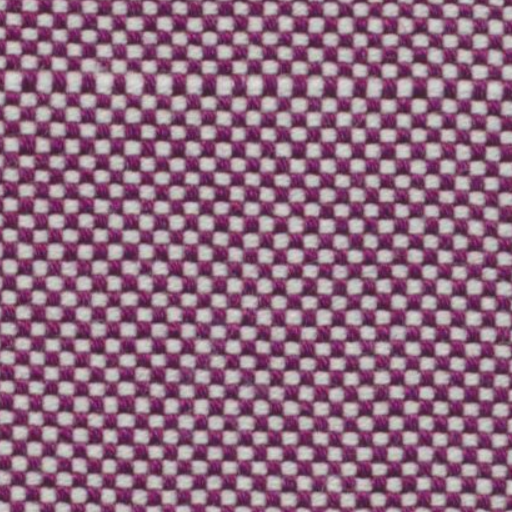TuoSha: (6, 52, 504, 120)
